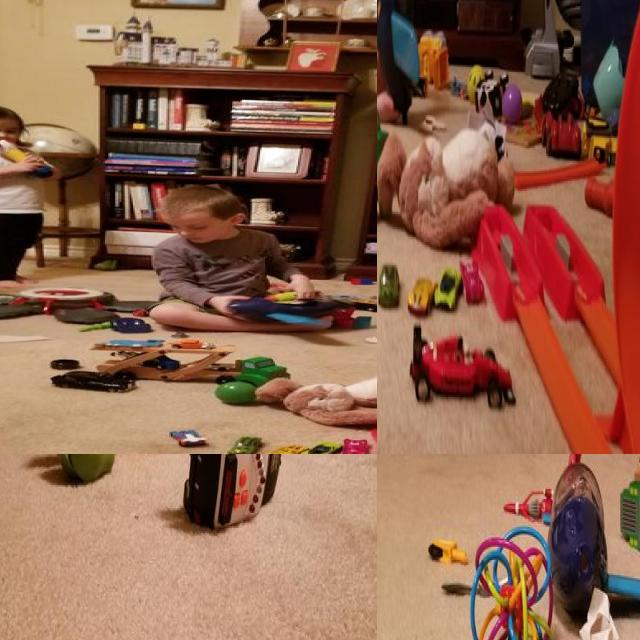toy: (382, 127, 517, 247), (410, 323, 518, 426), (473, 529, 552, 640), (180, 454, 286, 528), (274, 368, 377, 417), (536, 94, 584, 160), (57, 454, 119, 490), (408, 268, 442, 328), (477, 66, 510, 126), (420, 28, 452, 89), (436, 259, 464, 325), (506, 486, 551, 527), (618, 470, 640, 546), (378, 261, 406, 318), (461, 250, 483, 313), (497, 82, 521, 132), (164, 428, 213, 452), (428, 540, 470, 568), (218, 381, 258, 404), (462, 63, 484, 103), (117, 334, 170, 350), (166, 339, 227, 352), (112, 317, 154, 334), (231, 434, 255, 454), (302, 440, 334, 454), (268, 441, 299, 454), (343, 438, 368, 454), (361, 330, 377, 346)
